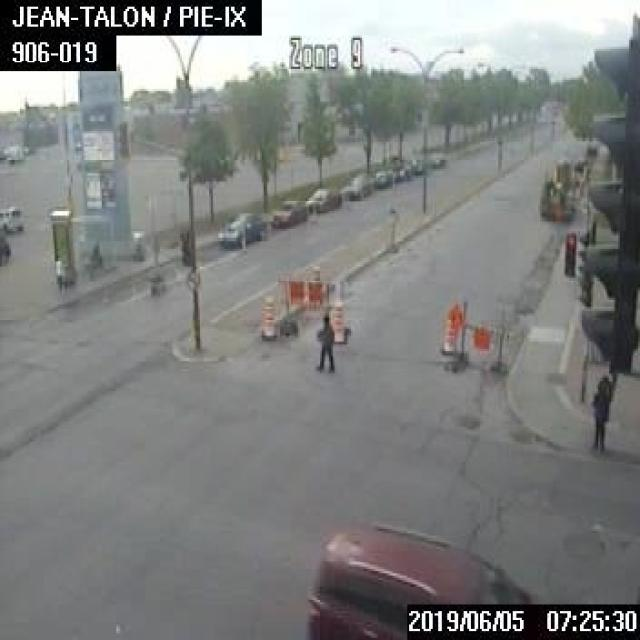construction: (276, 263, 349, 343), (443, 300, 511, 374), (260, 292, 276, 338), (439, 310, 455, 354), (331, 300, 344, 342)
pedestrian: (588, 382, 611, 449), (313, 311, 336, 371), (52, 250, 66, 291), (87, 240, 101, 272)
vehicle: (302, 518, 534, 638), (216, 211, 265, 249), (536, 179, 572, 218), (270, 197, 306, 224), (306, 185, 339, 211), (338, 173, 369, 197), (0, 205, 20, 231), (371, 166, 391, 185), (391, 159, 409, 178), (0, 231, 9, 262), (409, 156, 423, 172), (427, 154, 442, 168)
